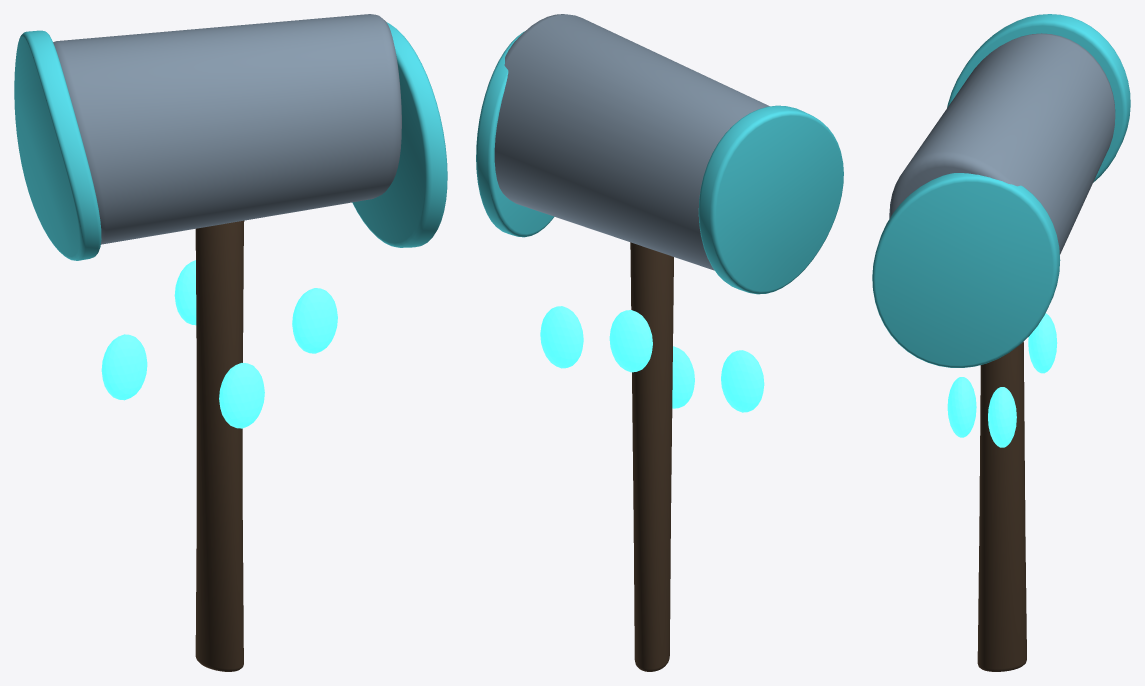
File: hammer_v8.glb
3 renders of one model, left to right at view 1: azimuth 30°, elevation 25°; view 2: azimuth 150°, elevation 25°; view 3: azimuth 270°, elevation 25°, orthographic. The views are drawn at different scales.
Visible parts, largest first — view 1: MAUL_HEAD_PRIMARY, HAFT_SECONDARY, MAUL_FACE_ACCENT, MAUL_FACE_ACCENT.001, ASCENDANT_GEM_EMISSIVE.003, ASCENDANT_GEM_EMISSIVE.002, ASCENDANT_GEM_EMISSIVE, ASCENDANT_GEM_EMISSIVE.001; view 2: MAUL_HEAD_PRIMARY, MAUL_FACE_ACCENT, HAFT_SECONDARY, MAUL_FACE_ACCENT.001, ASCENDANT_GEM_EMISSIVE.002, ASCENDANT_GEM_EMISSIVE, ASCENDANT_GEM_EMISSIVE.001, ASCENDANT_GEM_EMISSIVE.003; view 3: MAUL_FACE_ACCENT.001, MAUL_HEAD_PRIMARY, HAFT_SECONDARY, MAUL_FACE_ACCENT, ASCENDANT_GEM_EMISSIVE.003, ASCENDANT_GEM_EMISSIVE, ASCENDANT_GEM_EMISSIVE.001.
Boxes of the visible parts, bbox=[...] form: MAUL_HEAD_PRIMARY: bbox=[53, 14, 401, 244]; HAFT_SECONDARY: bbox=[195, 220, 244, 671]; MAUL_FACE_ACCENT: bbox=[14, 30, 101, 260]; MAUL_FACE_ACCENT.001: bbox=[352, 22, 447, 247]; ASCENDANT_GEM_EMISSIVE.003: bbox=[219, 363, 264, 428]; ASCENDANT_GEM_EMISSIVE.002: bbox=[101, 334, 147, 400]; ASCENDANT_GEM_EMISSIVE: bbox=[292, 288, 337, 353]; ASCENDANT_GEM_EMISSIVE.001: bbox=[174, 260, 196, 325]; MAUL_HEAD_PRIMARY: bbox=[494, 14, 769, 270]; MAUL_FACE_ACCENT: bbox=[698, 105, 843, 294]; HAFT_SECONDARY: bbox=[630, 242, 673, 671]; MAUL_FACE_ACCENT.001: bbox=[476, 31, 554, 237]; ASCENDANT_GEM_EMISSIVE.002: bbox=[721, 350, 764, 412]; ASCENDANT_GEM_EMISSIVE: bbox=[540, 306, 583, 368]; ASCENDANT_GEM_EMISSIVE.001: bbox=[609, 310, 652, 372]; ASCENDANT_GEM_EMISSIVE.003: bbox=[672, 346, 694, 408]; MAUL_FACE_ACCENT.001: bbox=[872, 173, 1060, 367]; MAUL_HEAD_PRIMARY: bbox=[889, 33, 1115, 254]; HAFT_SECONDARY: bbox=[977, 342, 1026, 671]; MAUL_FACE_ACCENT: bbox=[947, 14, 1130, 182]; ASCENDANT_GEM_EMISSIVE.003: bbox=[947, 377, 976, 437]; ASCENDANT_GEM_EMISSIVE: bbox=[988, 387, 1016, 447]; ASCENDANT_GEM_EMISSIVE.001: bbox=[1028, 313, 1057, 373].
Bounding box in the file's own units: 2.19 × 3.98 × 1.6.
